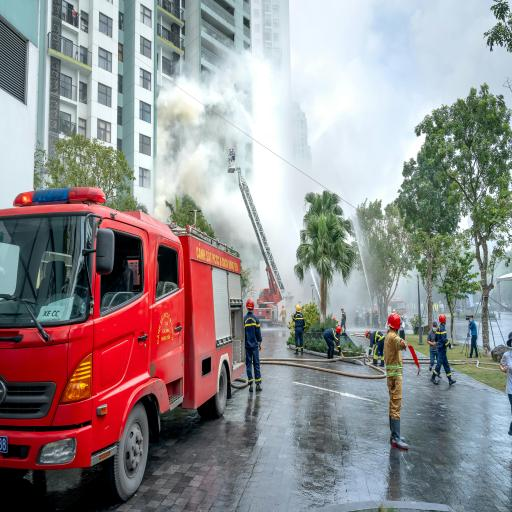smoke: (156, 44, 311, 292)
